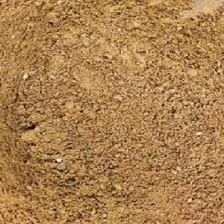sandy_soil: (7, 16, 206, 209)
